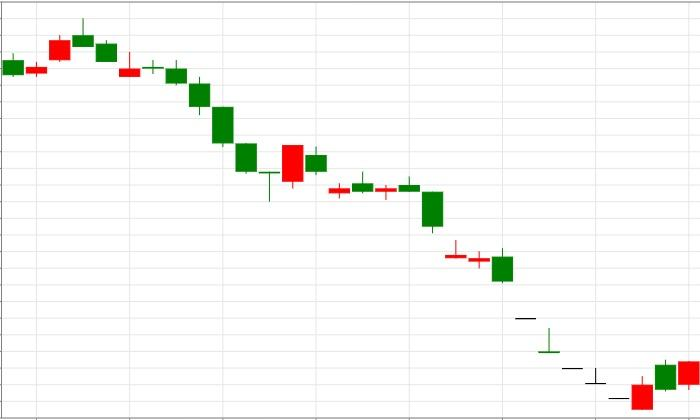bullish_engulfing_rise: (398, 177, 654, 411)
morning_star_rise: (142, 58, 305, 202)
